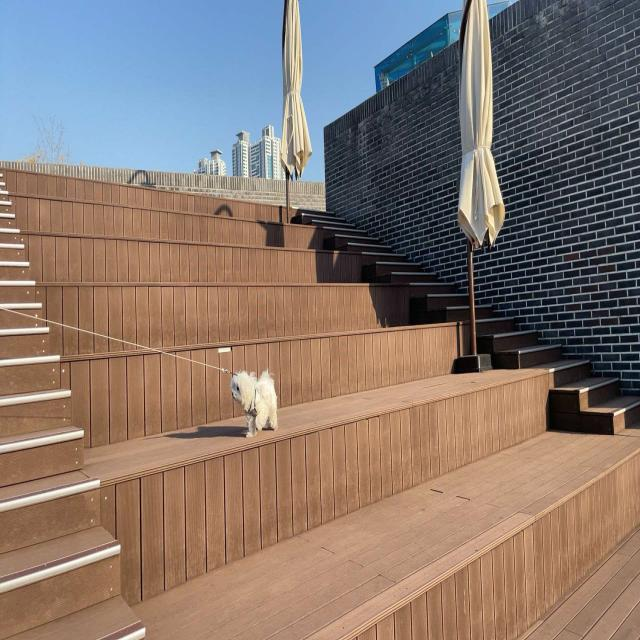Dog: (230, 369, 279, 440)
